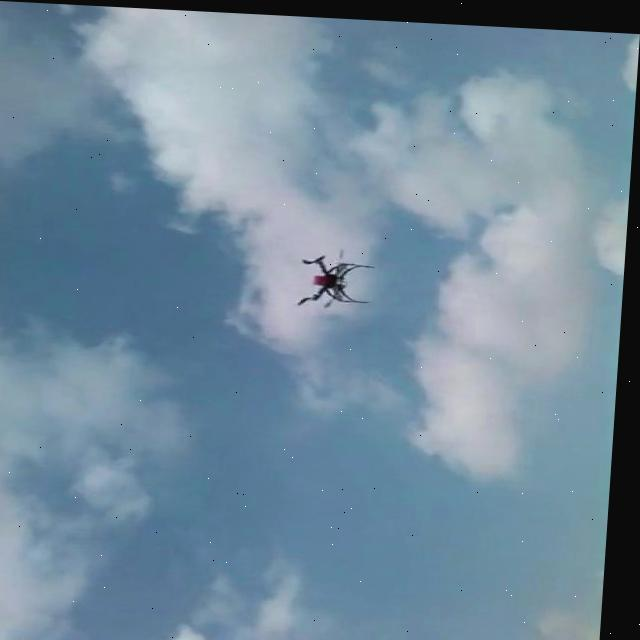drone: (292, 243, 377, 305)
